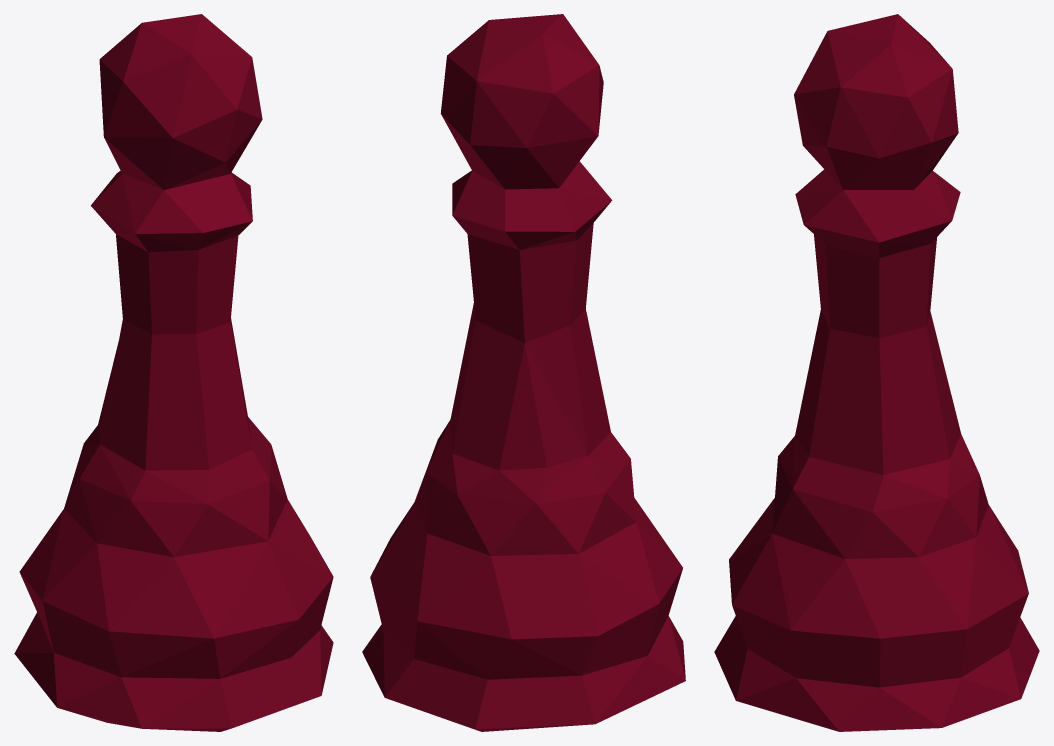
The model's file is pawn_dk.fbx.
3 views of the same model, side by side, from view 1: azimuth 30°, elevation 25°; view 2: azimuth 150°, elevation 25°; view 3: azimuth 270°, elevation 25° (orthographic).
Visible parts, largest first — view 1: Pawn_DK; view 2: Pawn_DK; view 3: Pawn_DK.
Boxes of the visible parts, left/top/right/bottom form: Pawn_DK: left=14, top=14, right=333, bottom=731; Pawn_DK: left=362, top=14, right=685, bottom=731; Pawn_DK: left=714, top=14, right=1039, bottom=731.
Bounding box in the file's own units: 1.11 × 2.54 × 1.14.
